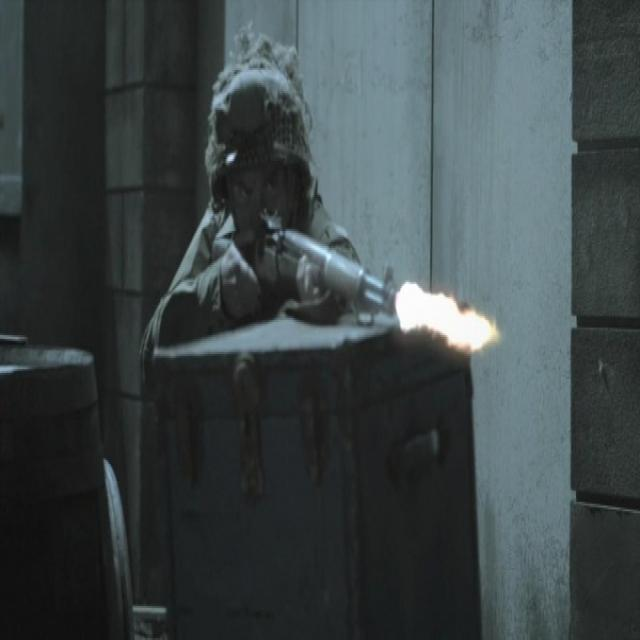rifle: (210, 219, 417, 314)
